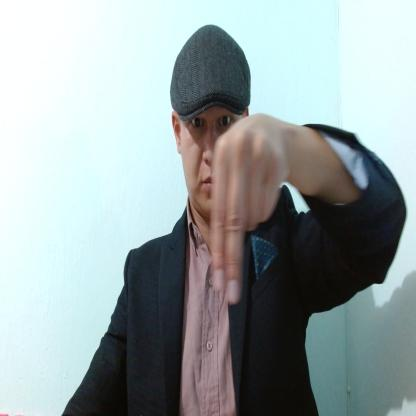N: (212, 114, 289, 302)
